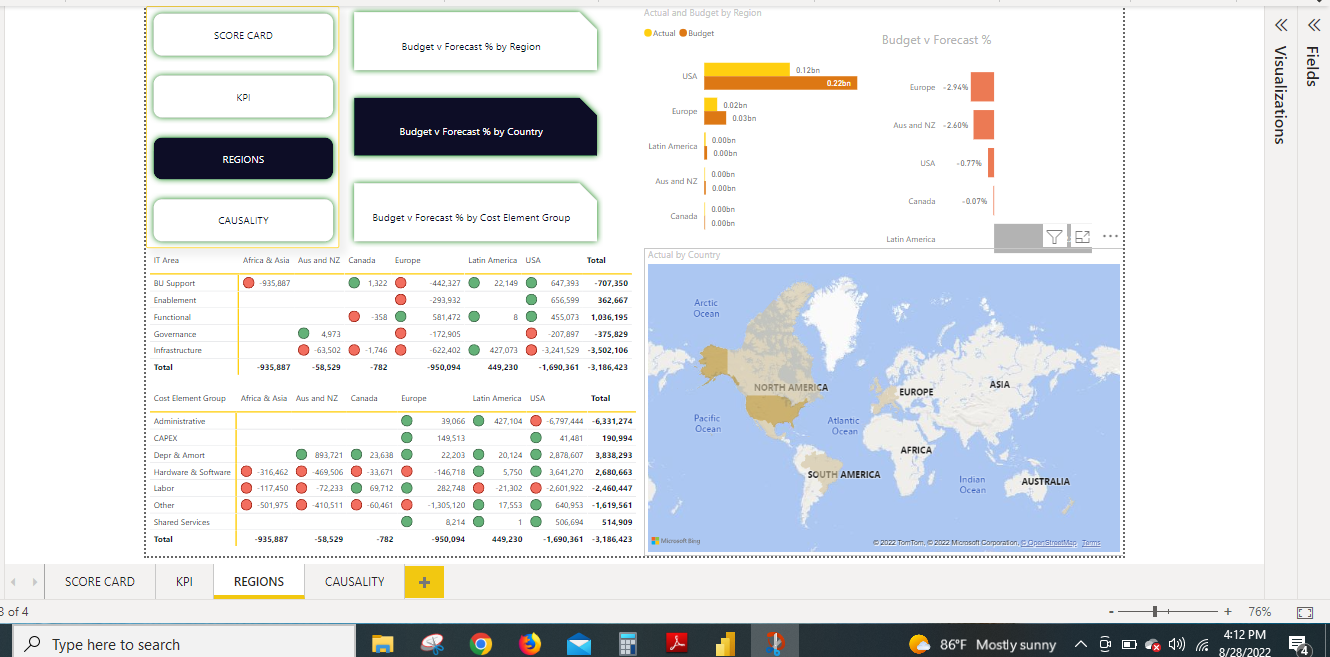

The page's visual inventory and layout, read from the dashboard file:
{"tool":"powerbi","page":{"name":"REGIONS","canvas":[1280,720],"ordinal":2},"visuals":[{"type":"clusteredBarChart","fields":{"Category":["Regions.Region"],"Y":["Sum(Actuals.Actual)","Sum(Budget.Budget)"]},"box":[646.6,0,319.7,316.8],"z":0},{"type":"clusteredBarChart","title":"Budget v Forecast %","fields":{"Category":["Regions.Region"],"Y":["Measure.Budget v Forecast %"]},"box":[957.6,33.1,322.6,316.8],"z":1000},{"type":"pivotTable","fields":{"Rows":["Departments.IT Area"],"Columns":["Regions.Region"],"Values":["Measure.Budget v Forecast"]},"box":[0,316.2,657.9,208.5],"z":2000},{"type":"pivotTable","fields":{"Rows":["CostElements.Cost Element Group"],"Columns":["Regions.Region"],"Values":["Measure.Budget v Forecast"]},"box":[0,497.3,657.9,222.2],"z":3000},{"type":"filledMap","fields":{"Category":["Actuals.Country"]},"box":[652.3,316.8,627.8,403.2],"z":4000},{"type":"pageNavigator","box":[0,0,253.4,316.8],"z":6000},{"type":"bookmarkNavigator","box":[264.9,0,335,316.2],"z":7000}]}

Visuals, with their boxes on the page's 1280x720 design canvas (x1, y1, x2, y2). These are canvas units, not pixel positions in the 1330x657 screenshot, which may show the page scaled, cropped or inside an application window:
clusteredBarChart - Regions.Region x Sum(Actuals.Actual): bbox=(647, 0, 966, 317)
"Budget v Forecast %" clusteredBarChart: bbox=(958, 33, 1280, 350)
pivotTable - Departments.IT Area x Regions.Region: bbox=(0, 316, 658, 525)
pivotTable - CostElements.Cost Element Group x Regions.Region: bbox=(0, 497, 658, 720)
filledMap - Actuals.Country: bbox=(652, 317, 1280, 720)
pageNavigator: bbox=(0, 0, 253, 317)
bookmarkNavigator: bbox=(265, 0, 600, 316)
